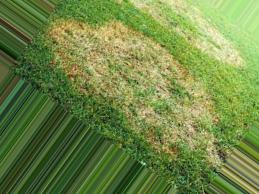patch: (74, 31, 160, 91), (124, 98, 209, 137)
